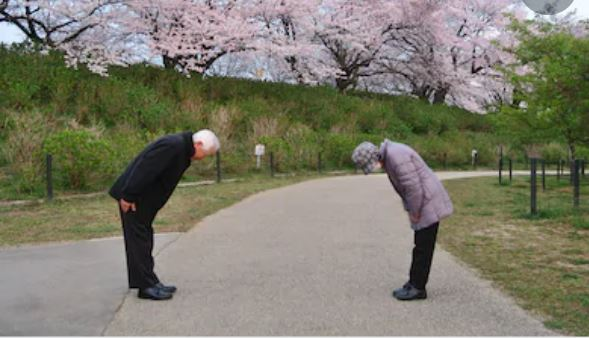Good: (106, 121, 456, 317)
